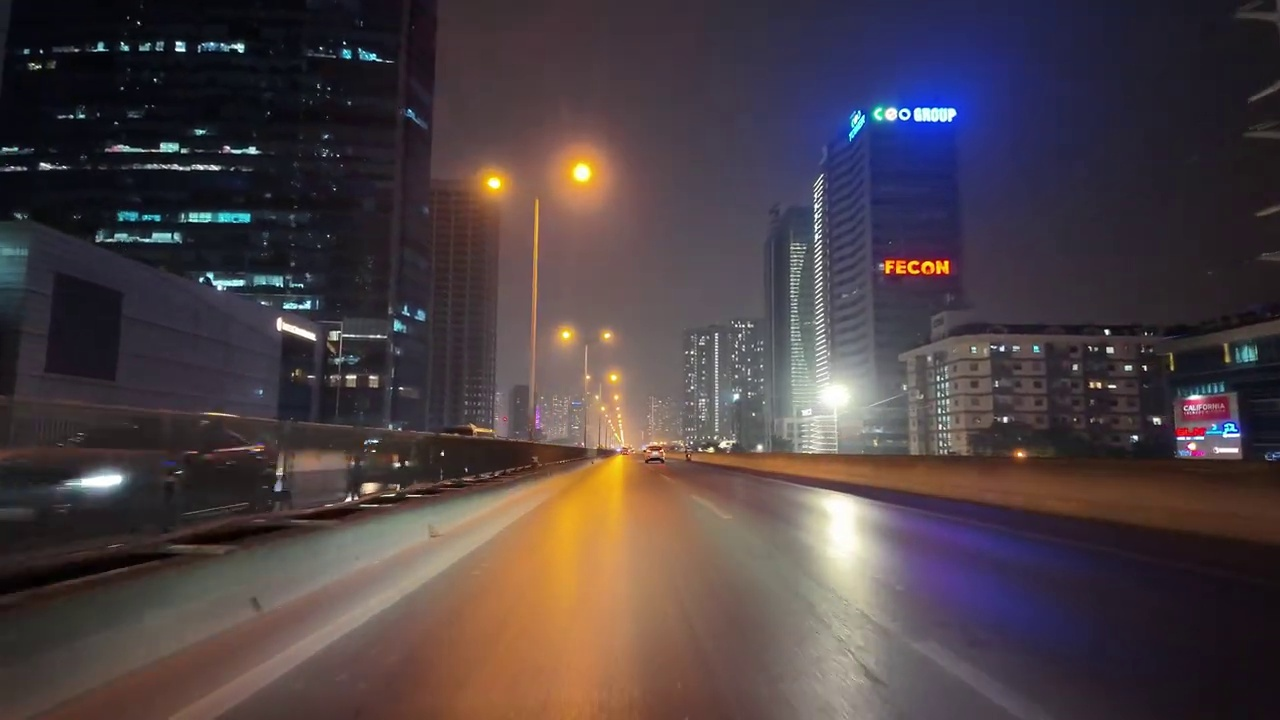acesa: (811, 500, 863, 560), (562, 155, 600, 192), (818, 380, 852, 413), (478, 168, 511, 199), (552, 323, 578, 349), (595, 327, 619, 347), (605, 370, 623, 391)
